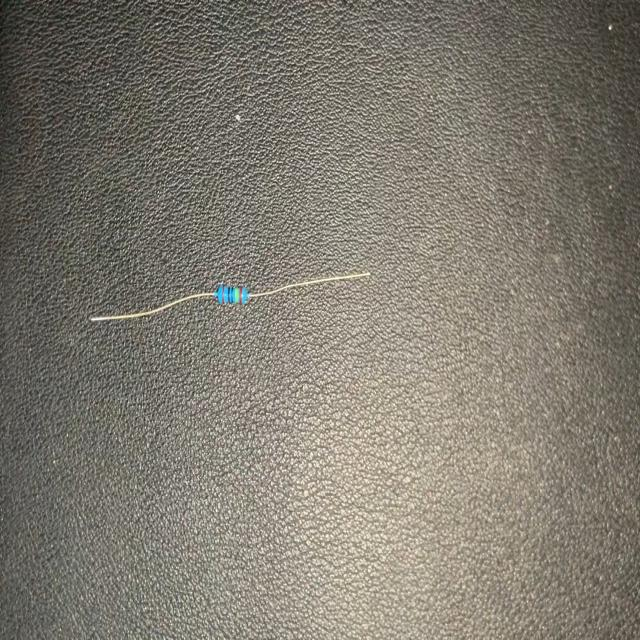resistor: (93, 273, 369, 324)
